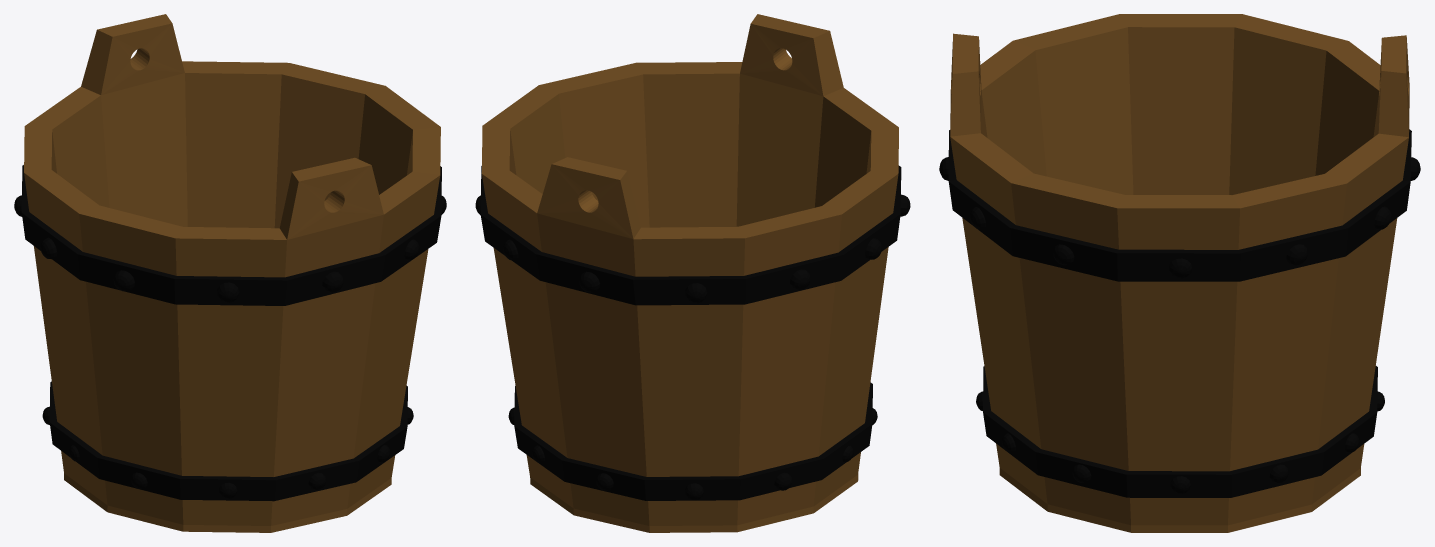
Rendered from Balde.fbx.
3 views of the same model, side by side, from view 1: azimuth 30°, elevation 25°; view 2: azimuth 150°, elevation 25°; view 3: azimuth 270°, elevation 25° (orthographic). The views are drawn at different scales.
Visible parts, largest first — view 1: Cylinder, Cylinder.024; view 2: Cylinder, Cylinder.024; view 3: Cylinder, Cylinder.024.
Boxes of the visible parts, box(x1,y1,x2,y2) form: Cylinder: box(21, 14, 441, 532); Cylinder.024: box(14, 195, 446, 498); Cylinder: box(480, 14, 901, 532); Cylinder.024: box(475, 194, 910, 500); Cylinder: box(948, 14, 1411, 532); Cylinder.024: box(939, 157, 1420, 493).
Size of the model in its own units: 51.09 by 47.94 by 51.47.
